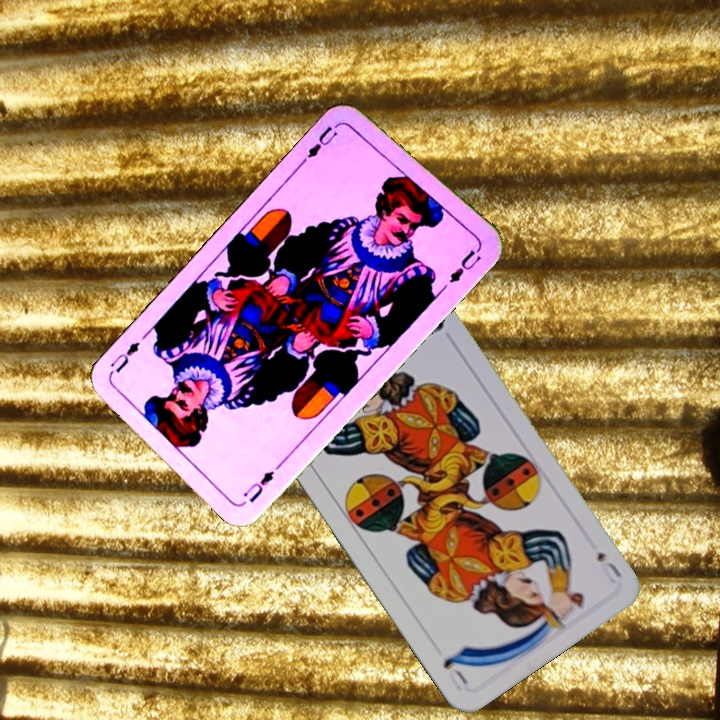EU: (299, 118, 345, 165), (238, 466, 278, 506)
SU: (592, 547, 625, 586)
